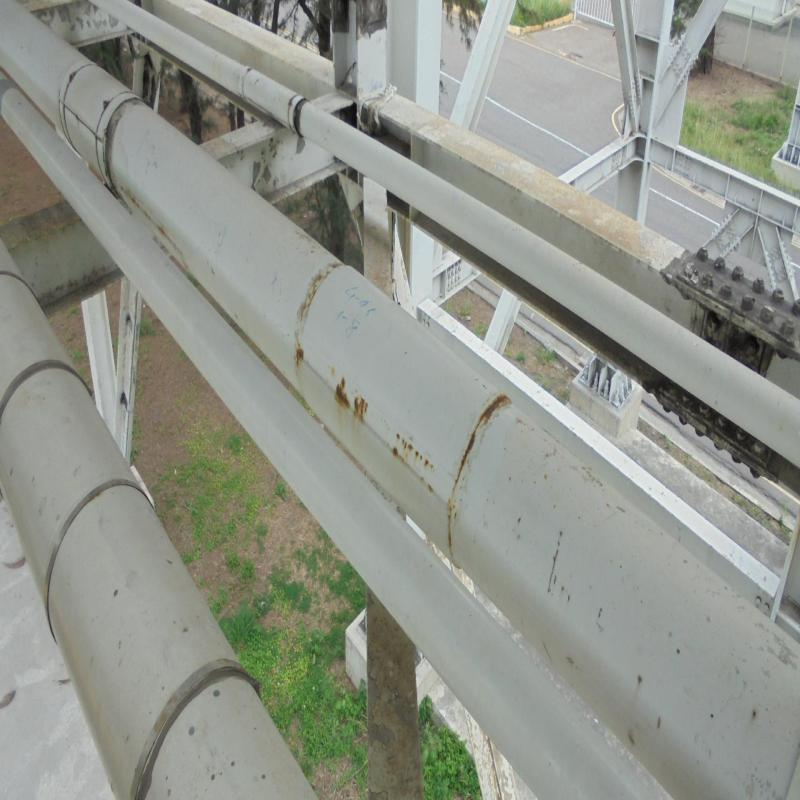corrosion: (336, 390, 358, 417)
